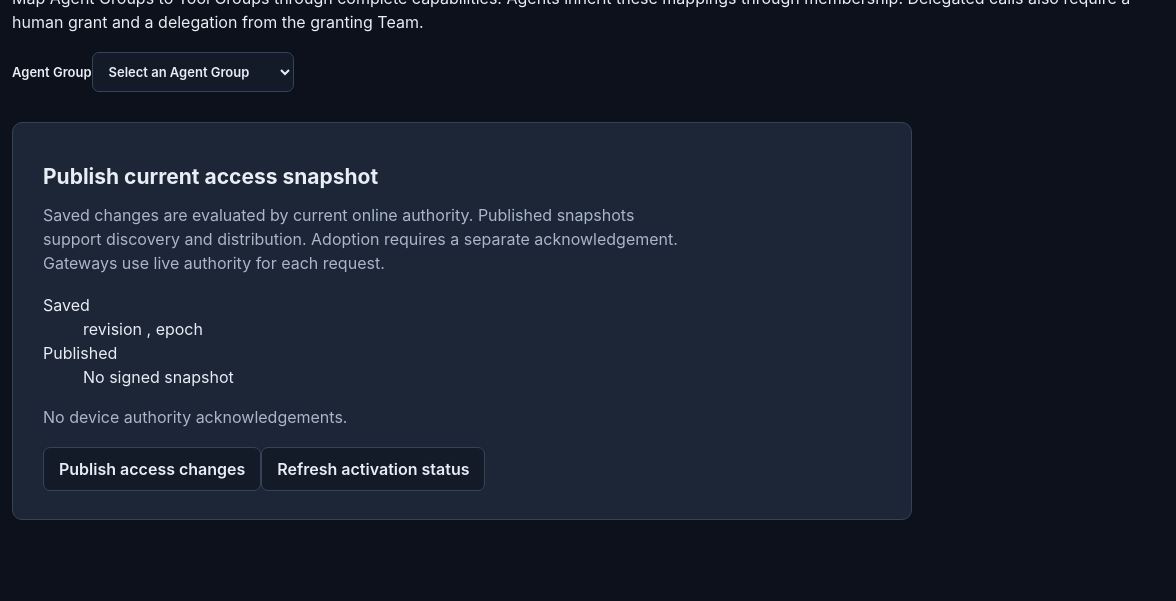
Scenario: maps an Agent Group through a capability grant and preserves an exact retry key
Select "Finance agents (finance)" in the dropdown labelled "Agent Group" at (192, 72), box x1=92 y1=52 x2=294 y2=92
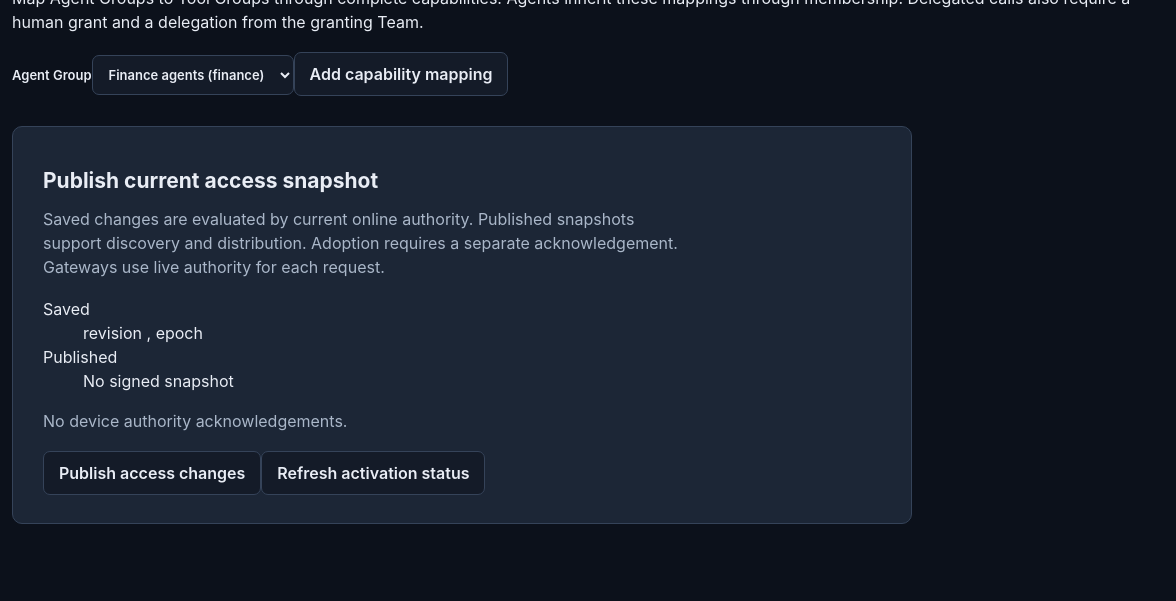
Click the button "Add capability mapping".
click(401, 74)  # box x1=294 y1=52 x2=508 y2=96
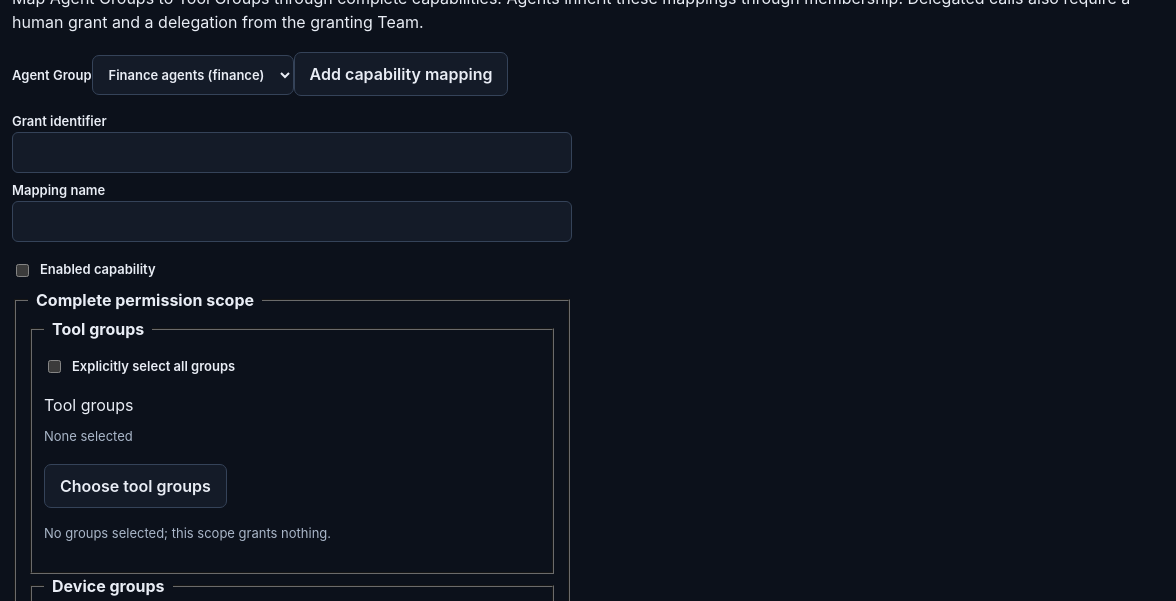
Type "capability" into the field labelled "Grant identifier".
click(292, 153); type("capability")  # box x1=12 y1=132 x2=572 y2=173
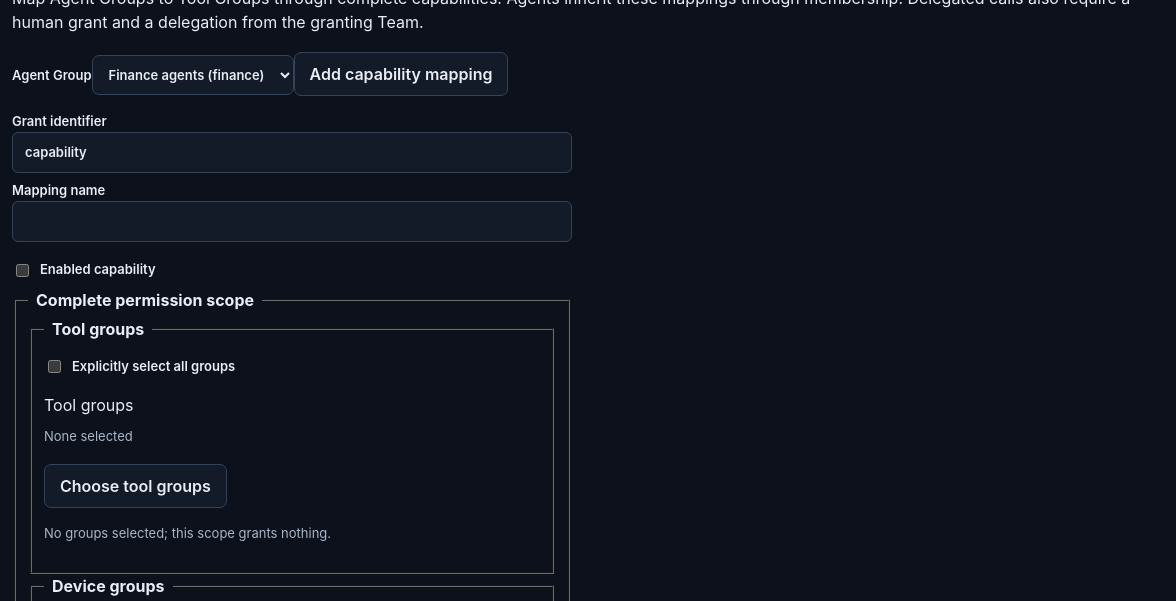
Type "Read ledger" into the field labelled "Mapping name".
click(292, 222); type("Read ledger")  # box x1=12 y1=201 x2=572 y2=242
(page scrolled)
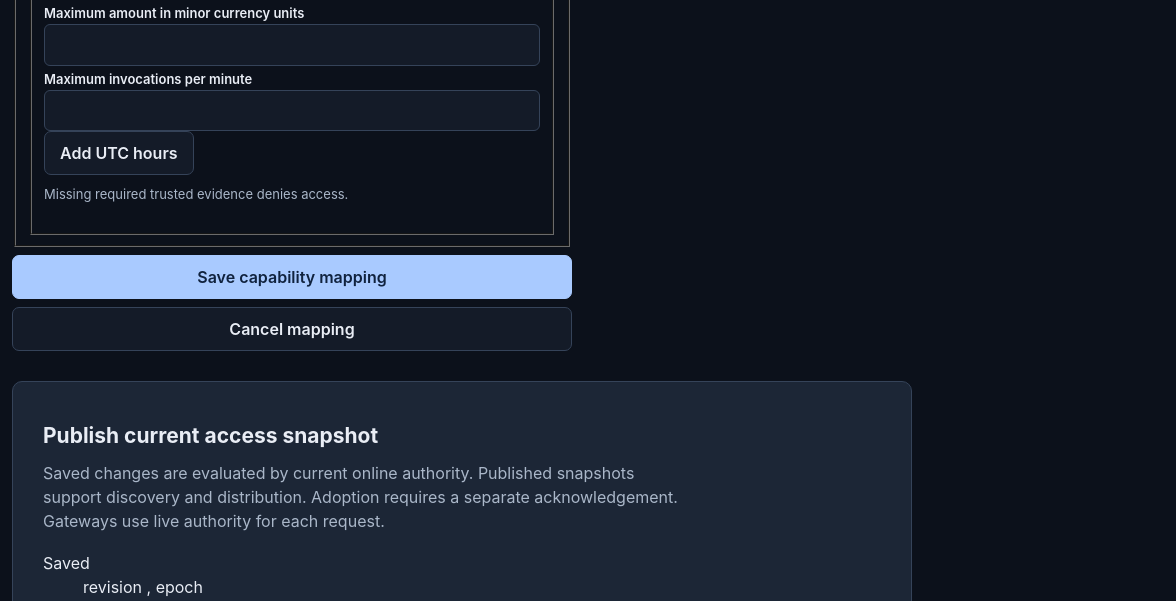
Click the button "Save capability mapping".
click(292, 277)  # box x1=12 y1=255 x2=572 y2=299
(page scrolled)
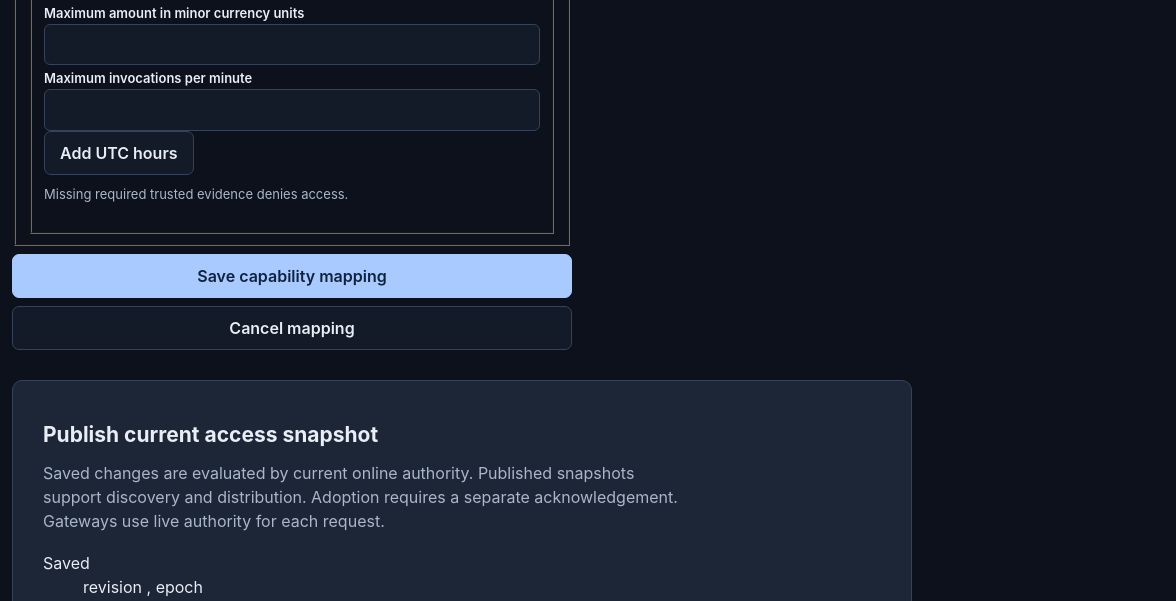
Click the button "Save capability mapping".
click(292, 276)  # box x1=12 y1=254 x2=572 y2=298
(page scrolled)
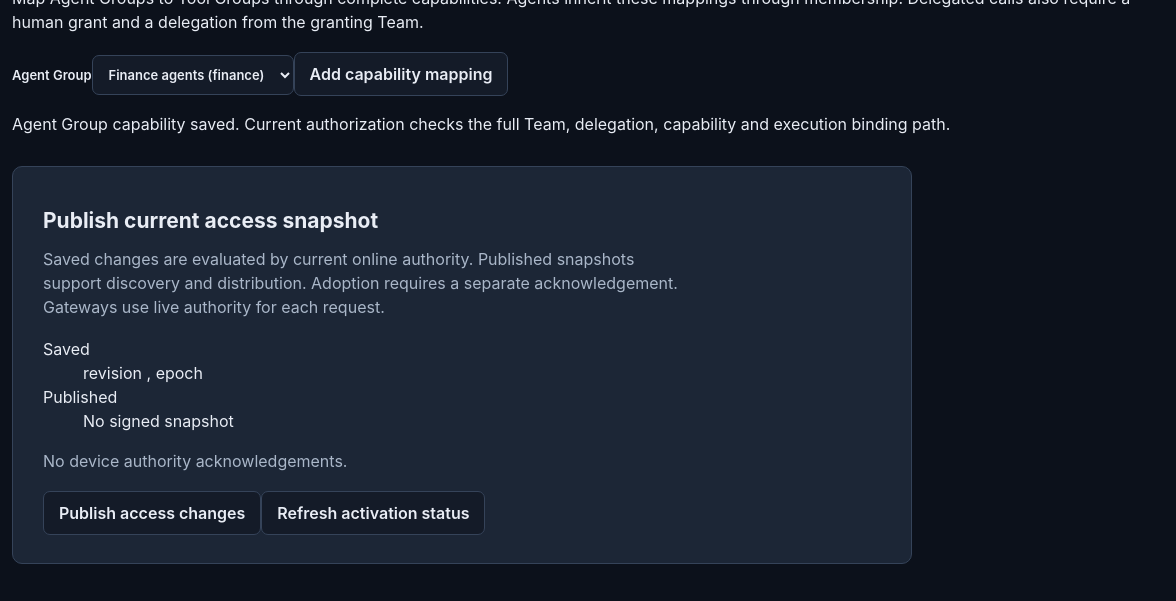
Now the text "Agent Group capability saved" is shown, box x1=12 y1=114 x2=950 y2=134
